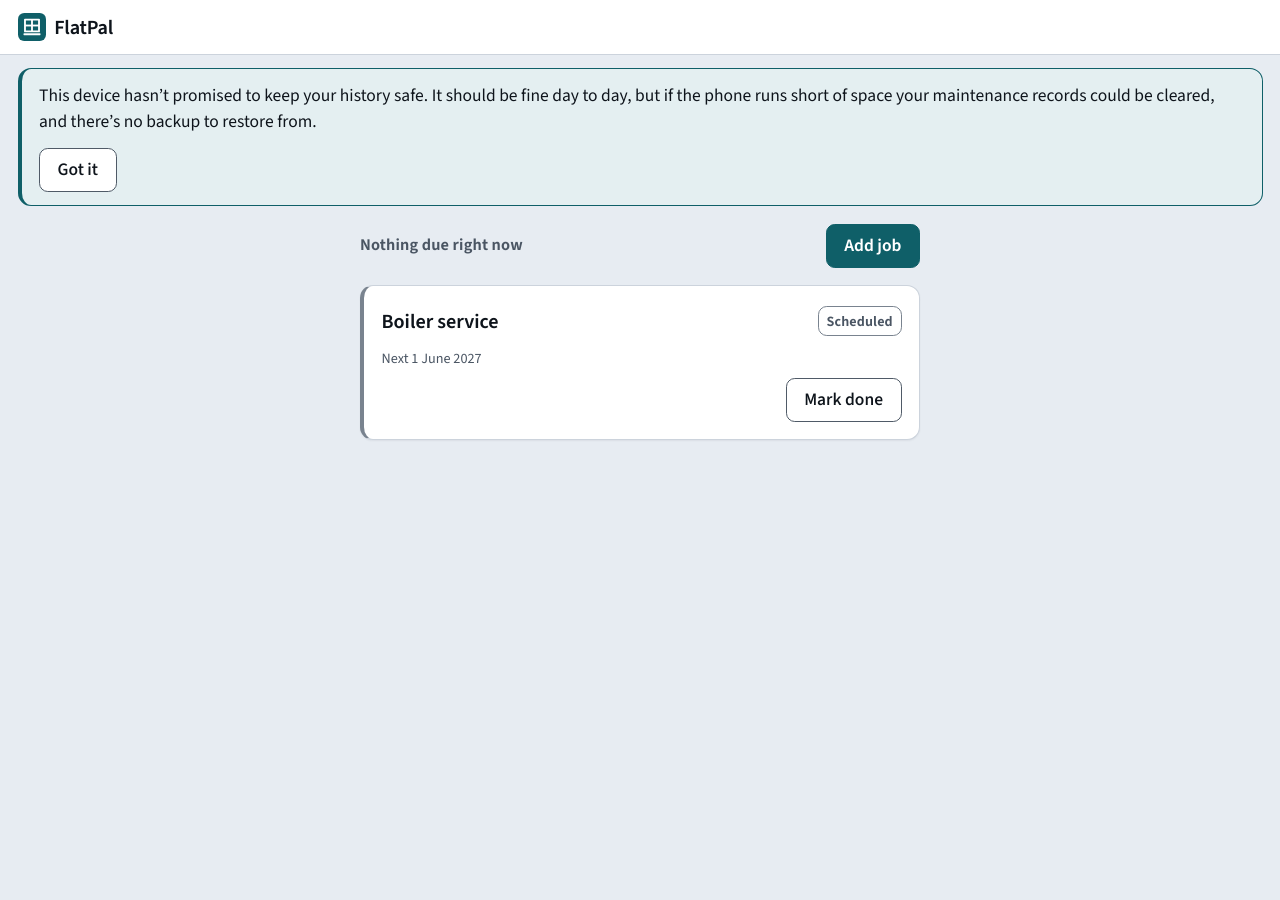
Test: removing one completion from a job’s history › uses the badge’s own words when the job lands exactly on today
Click the button "Boiler service" at (440, 321), box [382,299,499,343]
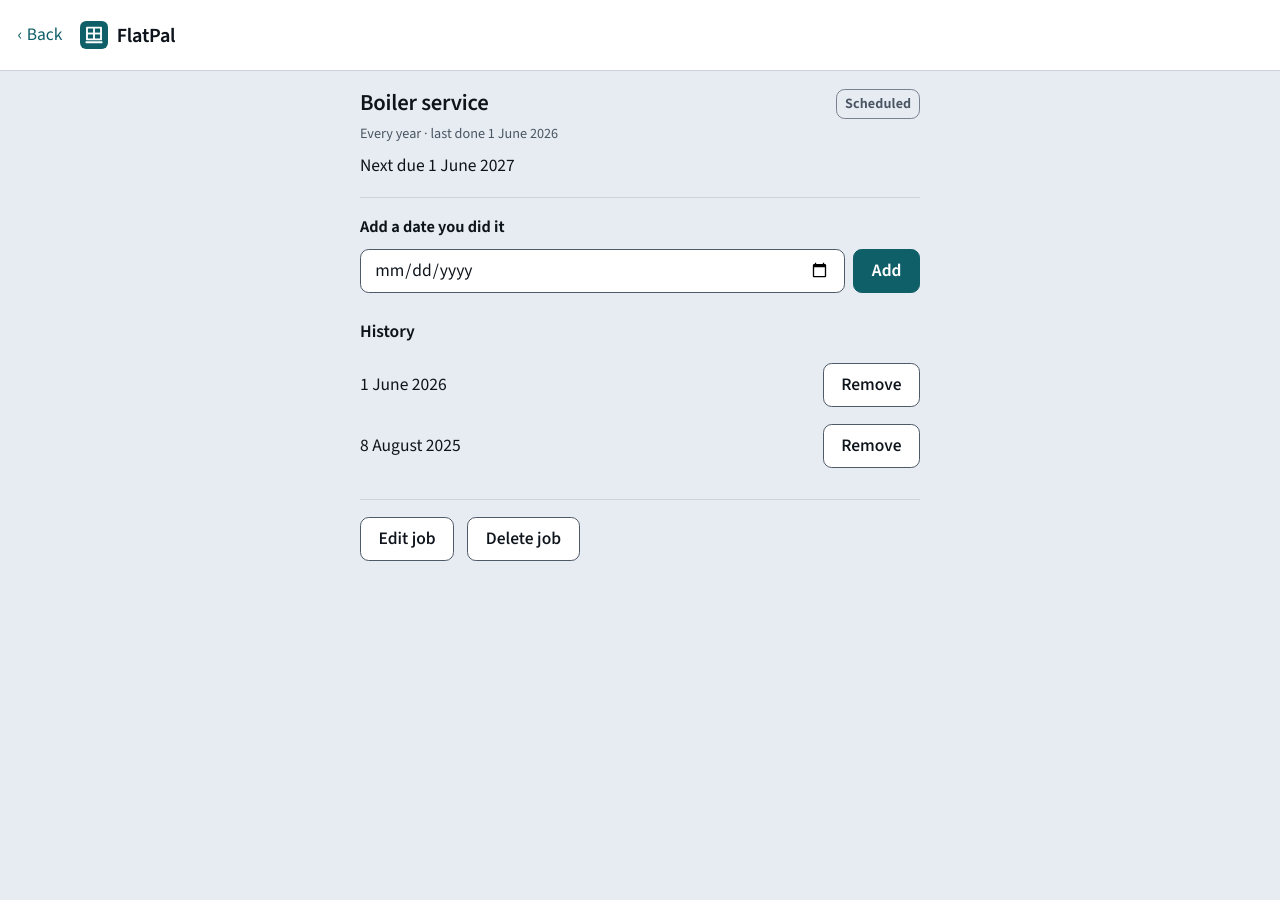
Click the button named "Remove the completion on 1 June 2026" at (871, 385), box [823,363,920,407]
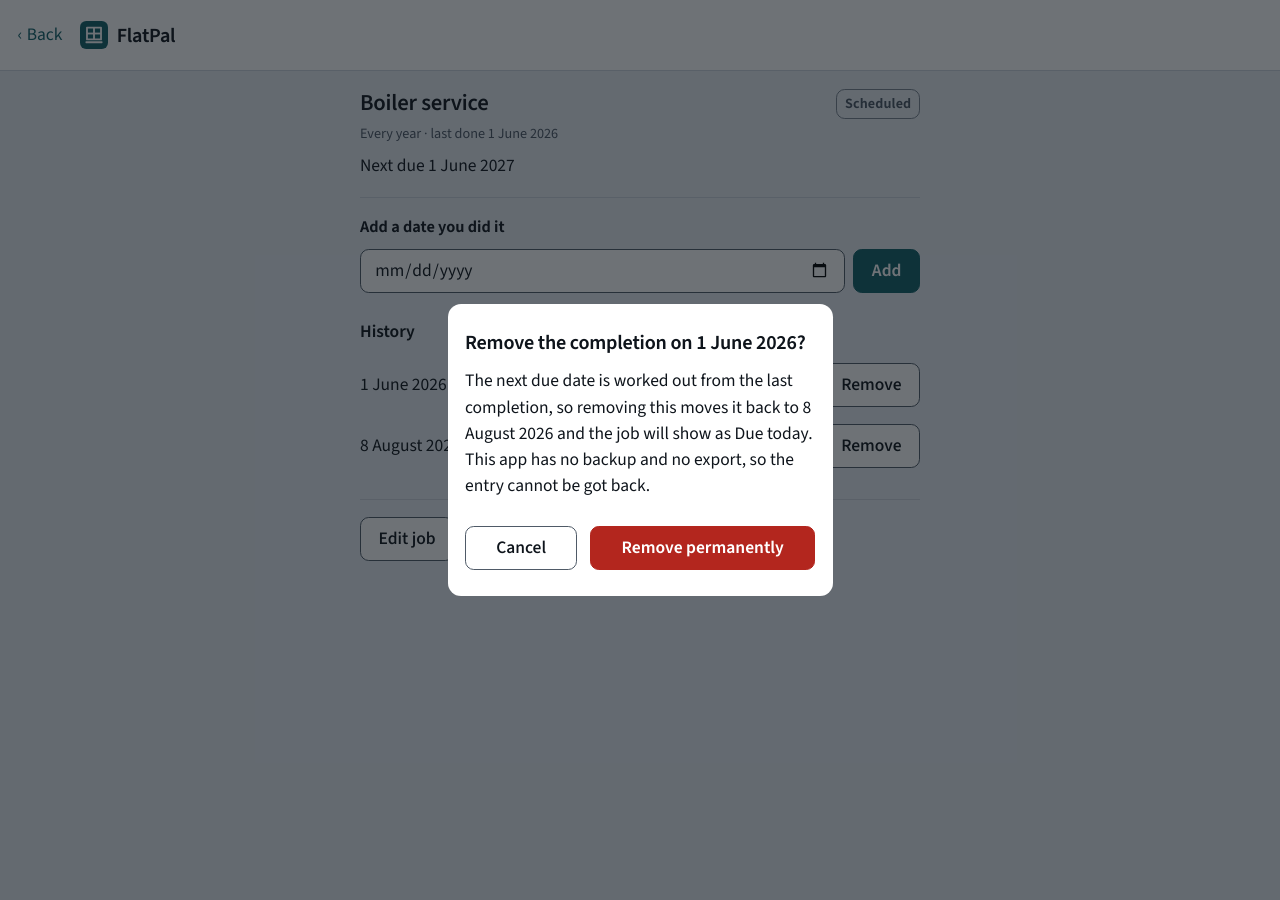
Check: the dialog is shown, box [448,304,832,596]
